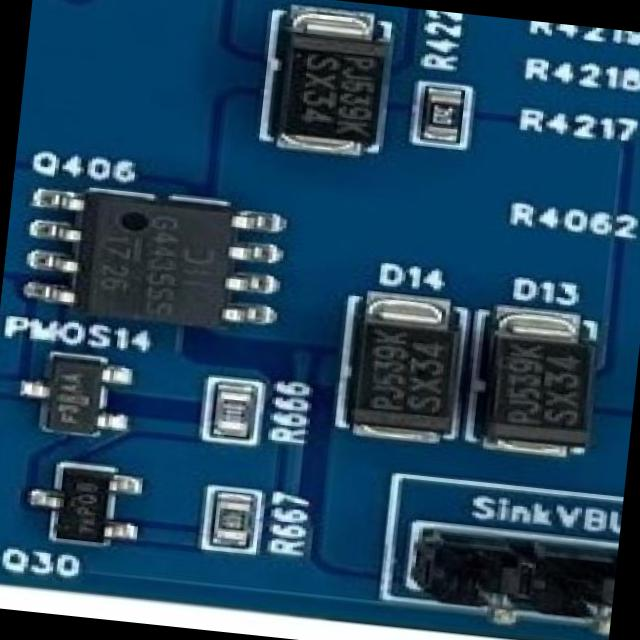IC: (36, 186, 274, 338)
connector: (406, 529, 616, 635)
diode: (255, 0, 411, 158), (475, 314, 608, 460), (330, 299, 454, 429)
resistor: (413, 80, 472, 142), (206, 378, 259, 446), (206, 491, 259, 548)
transistor: (24, 349, 140, 448), (28, 459, 146, 550)
